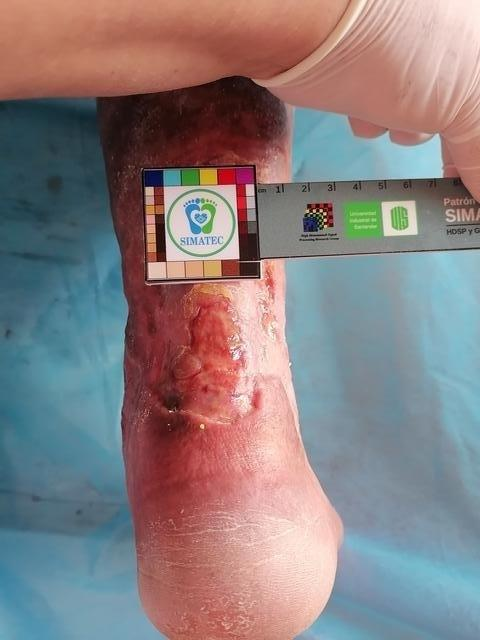wound: (137, 271, 296, 423)
